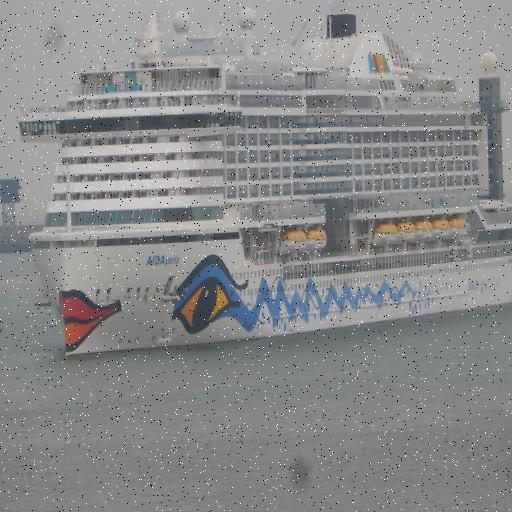cruises: (13, 1, 512, 364)
